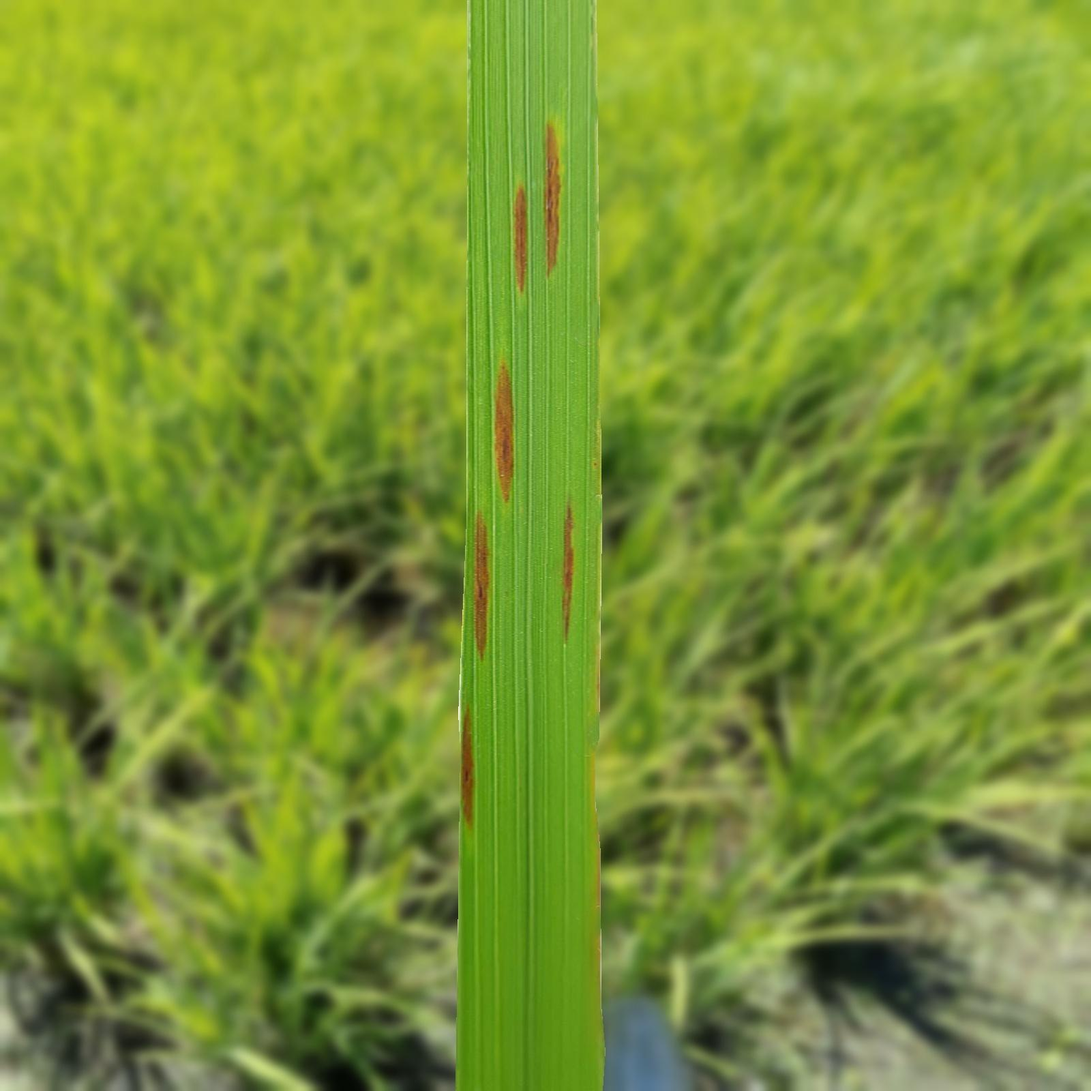LEAF: (455, 0, 605, 1090)
NBS: (495, 361, 513, 501), (474, 513, 490, 657), (546, 123, 561, 273), (460, 708, 474, 826), (562, 503, 574, 640), (514, 185, 527, 292)
